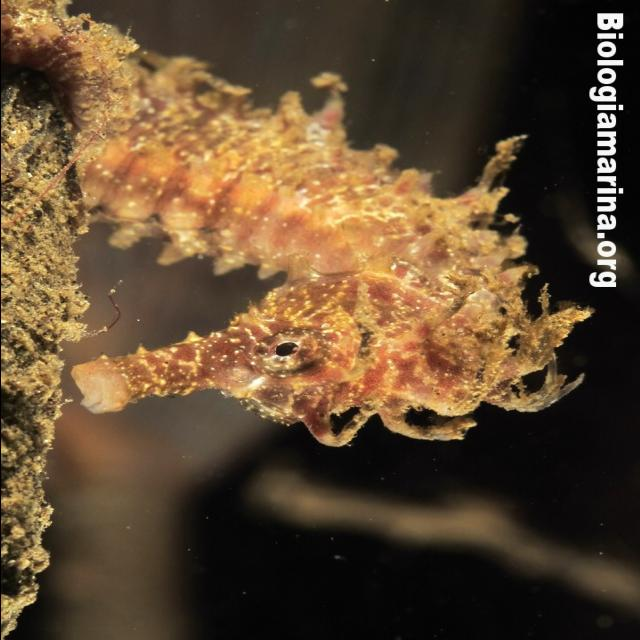Guttu: (58, 258, 534, 438)
